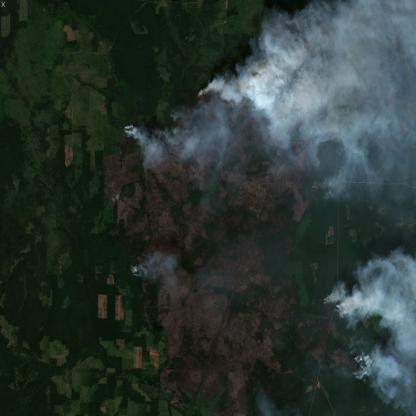fire: (121, 66, 308, 155), (321, 288, 372, 383), (128, 257, 145, 280)
